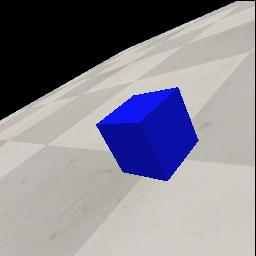box: (96, 86, 200, 181)
